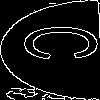C: (24, 25, 100, 61)
